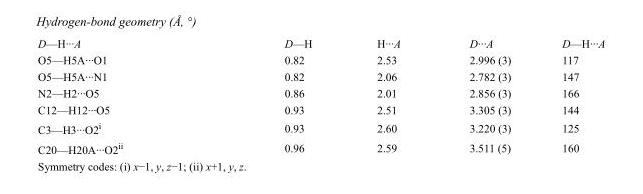table: (37, 36, 604, 155)
table column: (37, 36, 202, 155), (202, 36, 343, 155), (434, 36, 535, 155), (343, 36, 434, 155), (535, 36, 604, 155)
table row: (37, 117, 604, 137), (37, 137, 604, 155), (37, 67, 604, 84), (37, 84, 604, 101), (37, 51, 604, 67), (37, 101, 604, 117), (37, 36, 604, 51)
